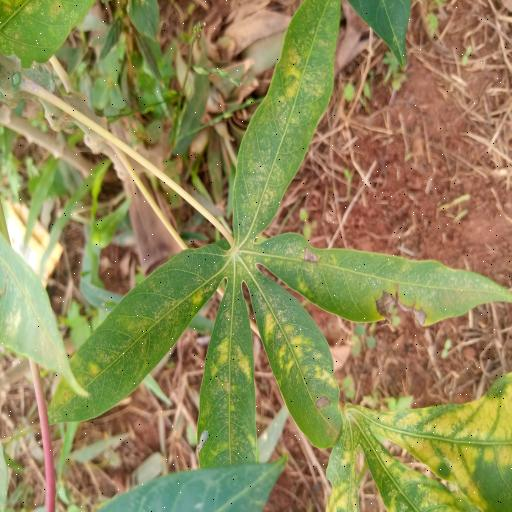Cassava_Mosaic: (40, 3, 508, 469)
